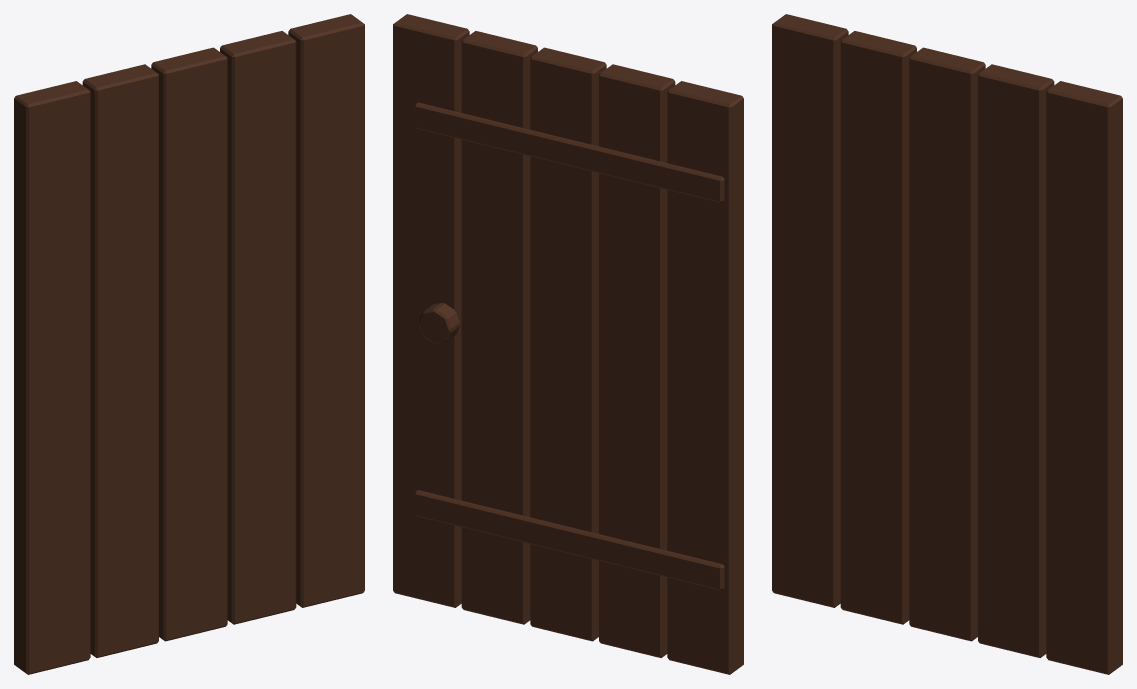
Rendered from door_leaf.fbx.
3 views of the same model, side by side, from view 1: azimuth 30°, elevation 25°; view 2: azimuth 150°, elevation 25°; view 3: azimuth 330°, elevation 25° (orthographic).
Parts seen in each view (by area): view 1: door_leaf; view 2: door_leaf; view 3: door_leaf.
Part boxes in pixels (left/top/right/bottom): door_leaf: left=14, top=14, right=364, bottom=674; door_leaf: left=393, top=14, right=743, bottom=674; door_leaf: left=772, top=14, right=1122, bottom=674.
Bounding box in the file's own units: 494 × 795 × 63.
